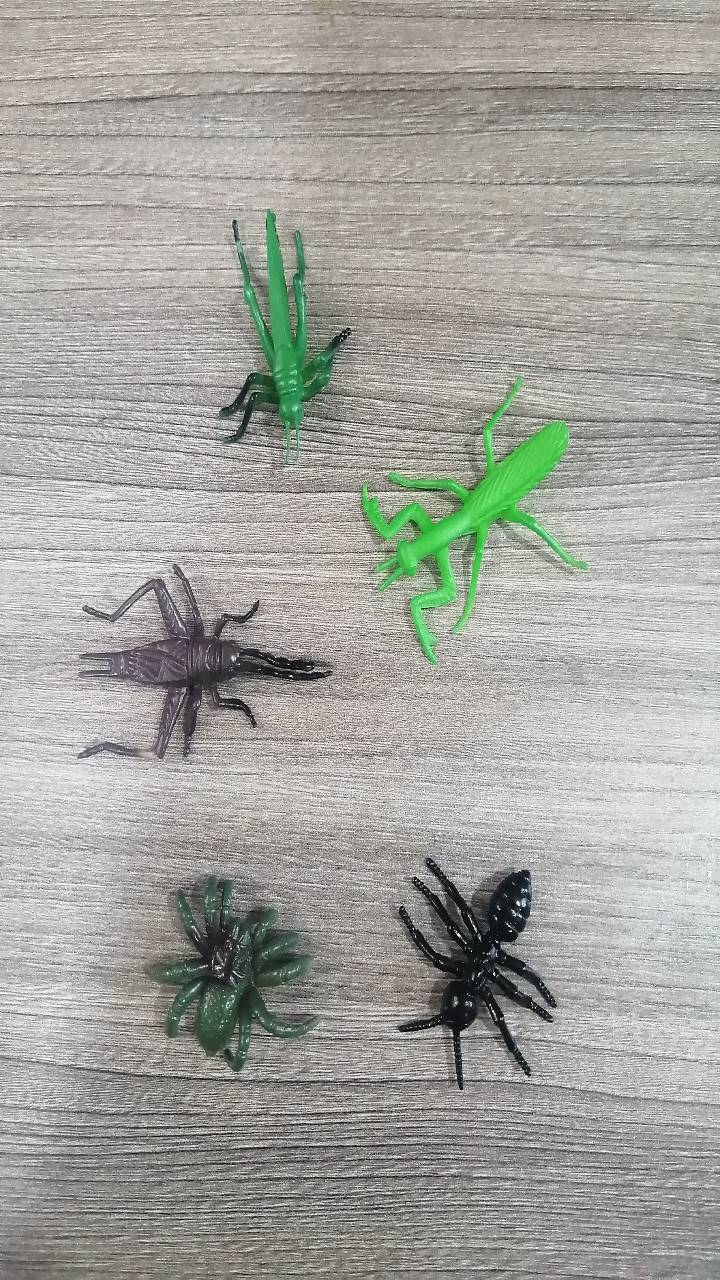intruso: (334, 351, 597, 688), (360, 819, 621, 1122), (101, 831, 360, 1109), (66, 546, 349, 785), (194, 188, 368, 474)
